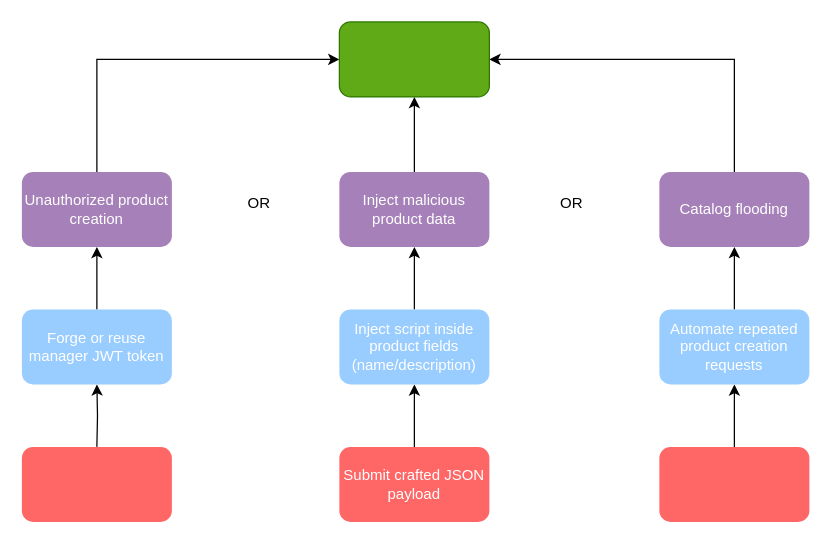
This 830x544 diagram has some shape labels left out. The shapes that lost their labels are listed below. From the top down, each one's box as (x1, y1, x2, y2) in pixels, then its label:
(338, 21, 489, 97): Abuse product creation endpoint
(21, 446, 171, 521): Identify vulnerable query input field
(659, 446, 809, 521): Script bulk product insertion
